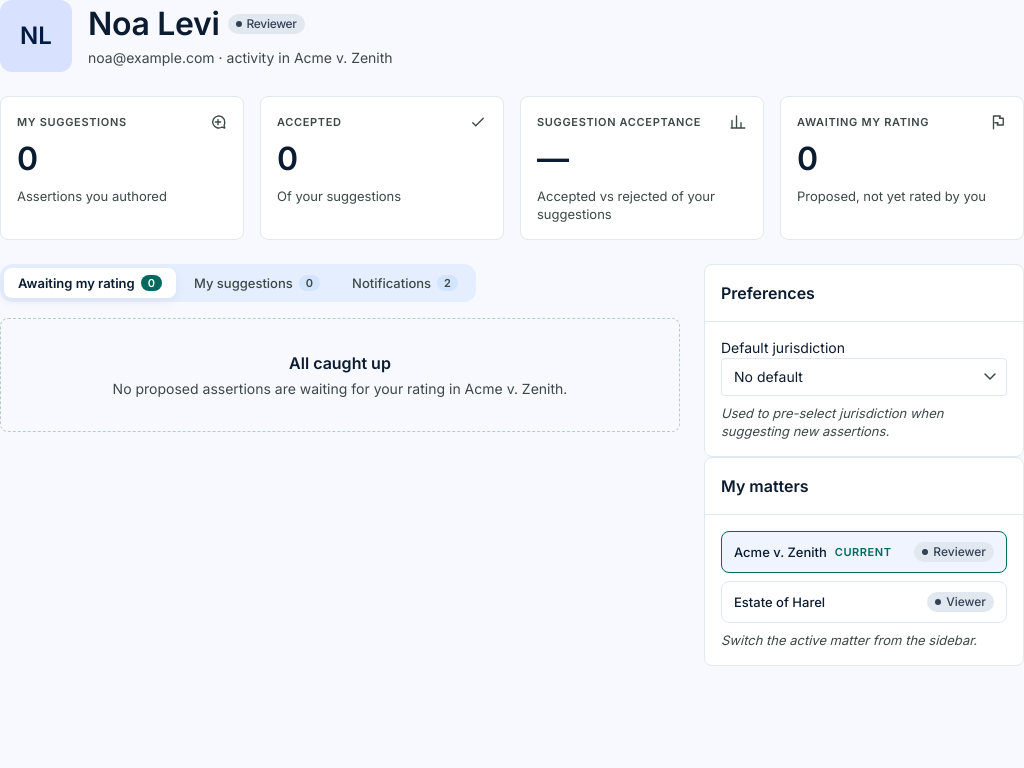
Test: ProfilePage › renders empty states and an em-dash acceptance rate when I authored nothing
The image size is (1024, 768).
Check: the text with test id "pf-stat-suggestions" reads "0", box [17, 139, 38, 178]
Check: the text with test id "pf-stat-acceptance" reads "—", box [537, 139, 569, 178]
Click the tab "My suggestions 0".
click(257, 283)  # box [180, 268, 334, 298]
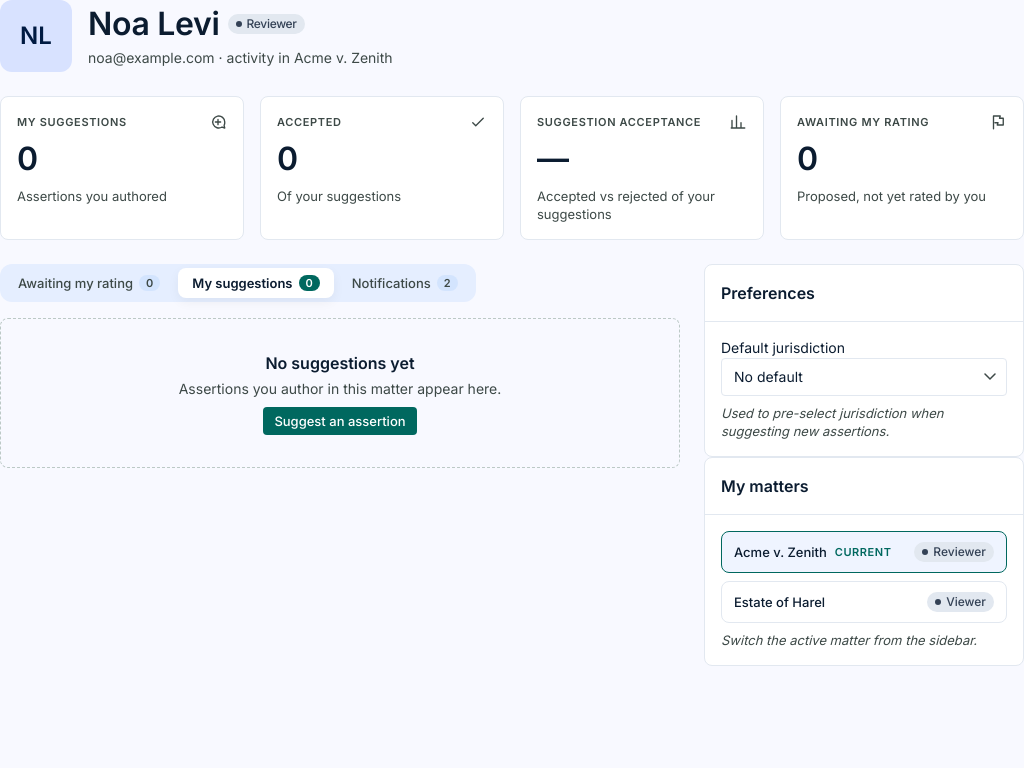
Check: the text "No suggestions yet" is shown, box [265, 353, 415, 373]
